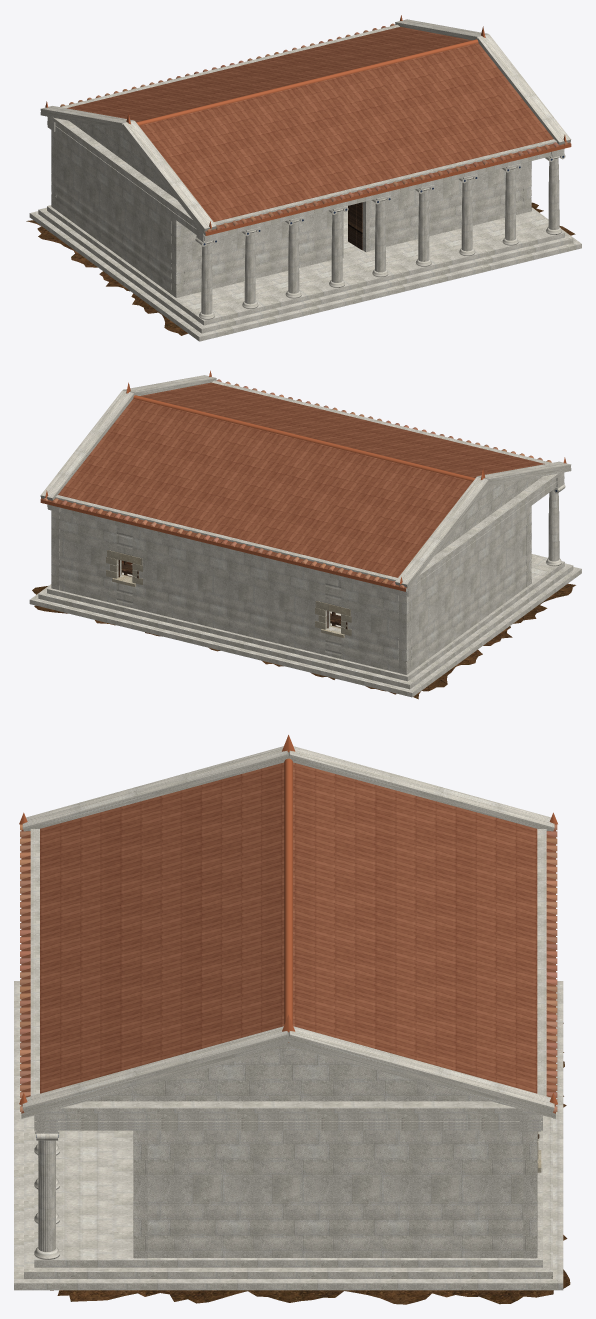
Rendered from library@2.glb.
3 views of the same model, one above another, from view 1: azimuth 30°, elevation 25°; view 2: azimuth 150°, elevation 25°; view 3: azimuth 270°, elevation 25° (orthographic). The views are drawn at different scales.
Parts seen in each view (by area): view 1: part_4, part_12, part_14, part_15, part_1, part_6; view 2: part_4, part_12, part_14, part_5, part_1, part_15; view 3: part_4, part_12, part_15, part_1, part_14.
Part boxes in pixels (x1,y1,x2,y2): part_4: (29, 19, 581, 341); part_12: (67, 26, 570, 232); part_14: (45, 15, 571, 235); part_15: (60, 23, 569, 232); part_1: (26, 202, 575, 335); part_6: (348, 202, 362, 250); part_4: (29, 375, 581, 697); part_12: (40, 382, 544, 588); part_14: (40, 370, 566, 591); part_5: (106, 550, 351, 637); part_1: (32, 583, 575, 699); part_15: (42, 379, 551, 588); part_4: (14, 746, 563, 1290); part_12: (21, 762, 555, 1113); part_15: (20, 824, 557, 1111); part_1: (50, 1023, 570, 1304); part_14: (19, 735, 557, 1104).
Size of the model in its own units: 10.63 by 4.1 by 7.88.
Materials: 16 (11 with a texture image).
